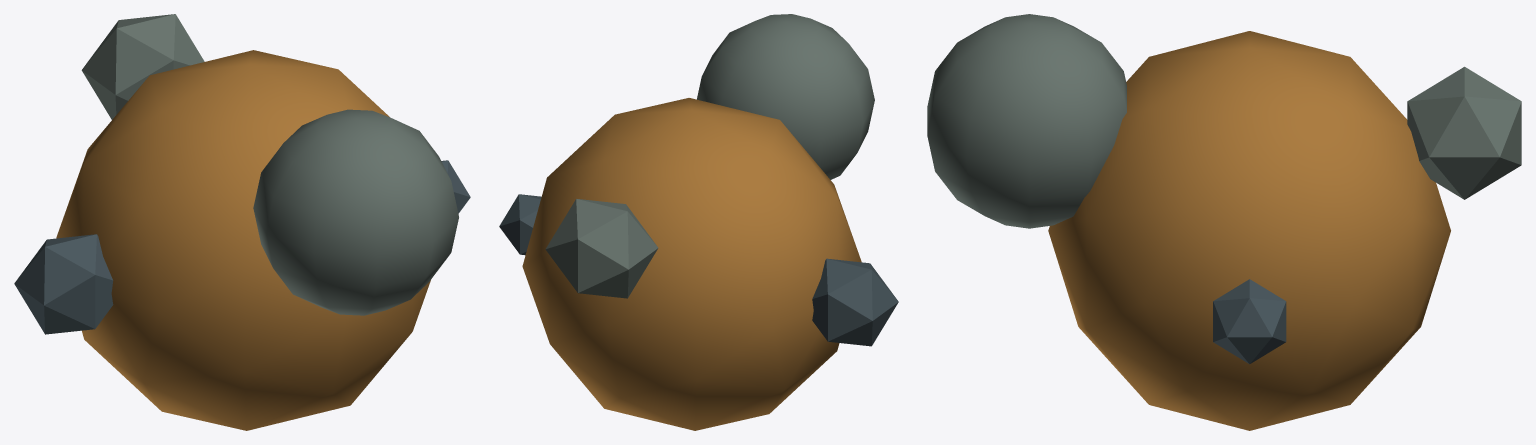
File: clock_sprite.glb
3 renders of one model, left to right at view 1: azimuth 30°, elevation 25°; view 2: azimuth 150°, elevation 25°; view 3: azimuth 270°, elevation 25°, orthographic. The views are drawn at different scales.
Visible parts, largest first — view 1: body_core, head_core, orb_2, orb_3, orb_0; view 2: body_core, head_core, orb_3, orb_2, orb_0; view 3: body_core, head_core, orb_3, orb_0.
Part boxes in pixels (x1,y1,x2,y2): body_core: [56, 50, 430, 430]; head_core: [253, 109, 458, 315]; orb_2: [14, 234, 113, 334]; orb_3: [81, 14, 204, 119]; orb_0: [441, 160, 470, 213]; body_core: [522, 98, 861, 430]; head_core: [697, 14, 874, 179]; orb_3: [545, 199, 658, 298]; orb_2: [812, 258, 898, 346]; orb_0: [499, 194, 541, 255]; body_core: [1048, 31, 1450, 430]; head_core: [927, 14, 1126, 228]; orb_3: [1407, 66, 1521, 199]; orb_0: [1213, 279, 1286, 364].
Size of what is drawn, in the model's own units: 1.92 by 1.6 by 2.21.
